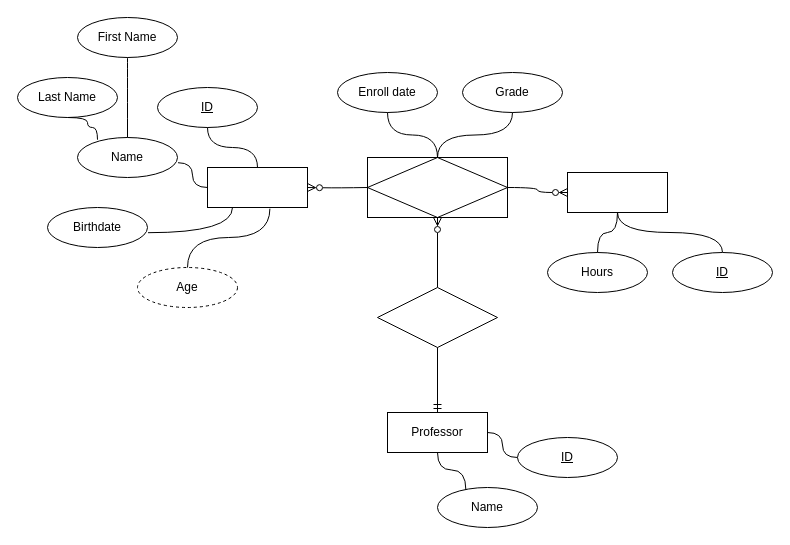
This 790x545 diagram has some shape labels left out. The shapes that lost their labels are listed below. From the top down, each one's centre as x and y in pixels, then its label:
the point at 257,187: Student
the point at 437,187: Enroll
the point at 617,192: Course
the point at 437,317: Teachs
